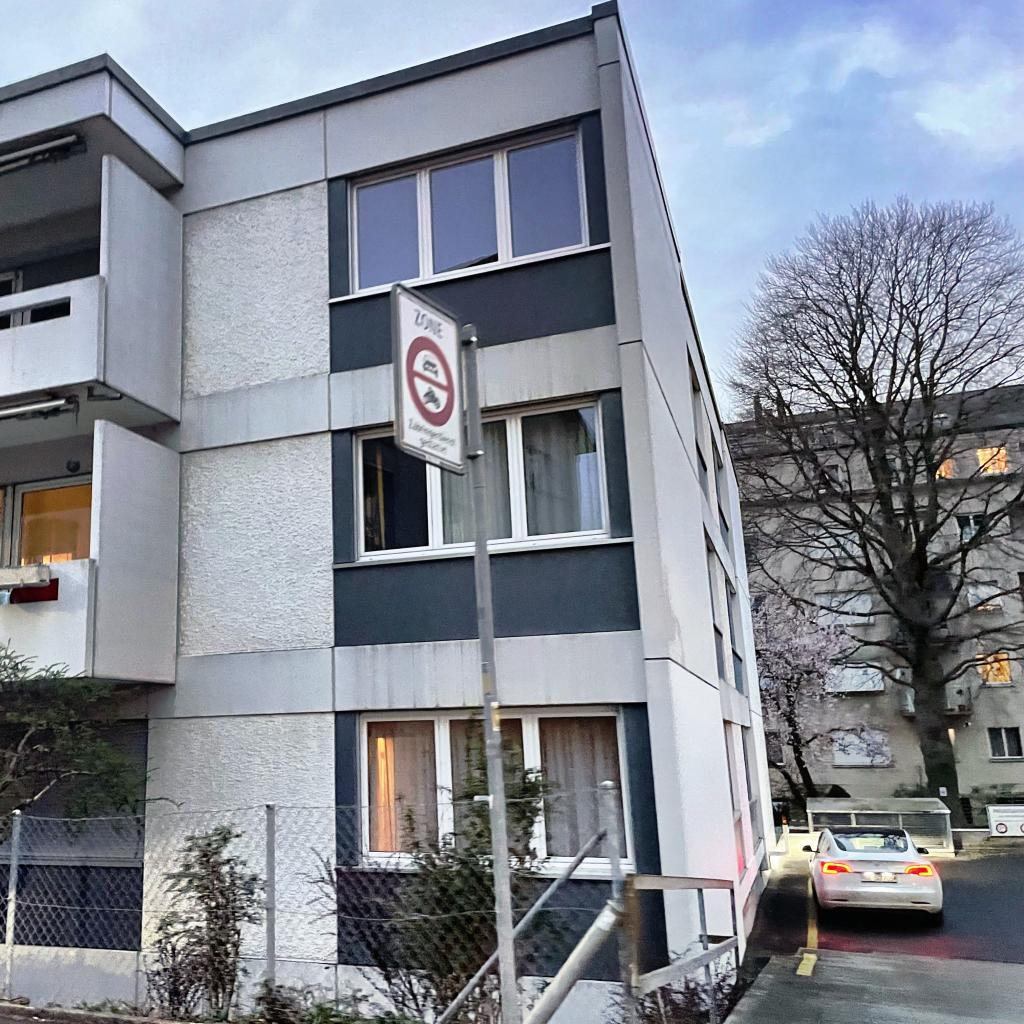car: (802, 825, 944, 921)
facade: (0, 0, 781, 1024)
fence: (0, 778, 739, 1023)
street: (725, 835, 1024, 1024)
traffic-infrastructure: (386, 276, 524, 1024)
vegetation: (713, 193, 1024, 835), (133, 704, 573, 1024), (0, 636, 167, 863), (600, 940, 752, 1024)
window: (358, 704, 635, 865), (351, 396, 611, 562), (349, 128, 590, 295), (0, 471, 92, 567), (0, 270, 15, 329)
